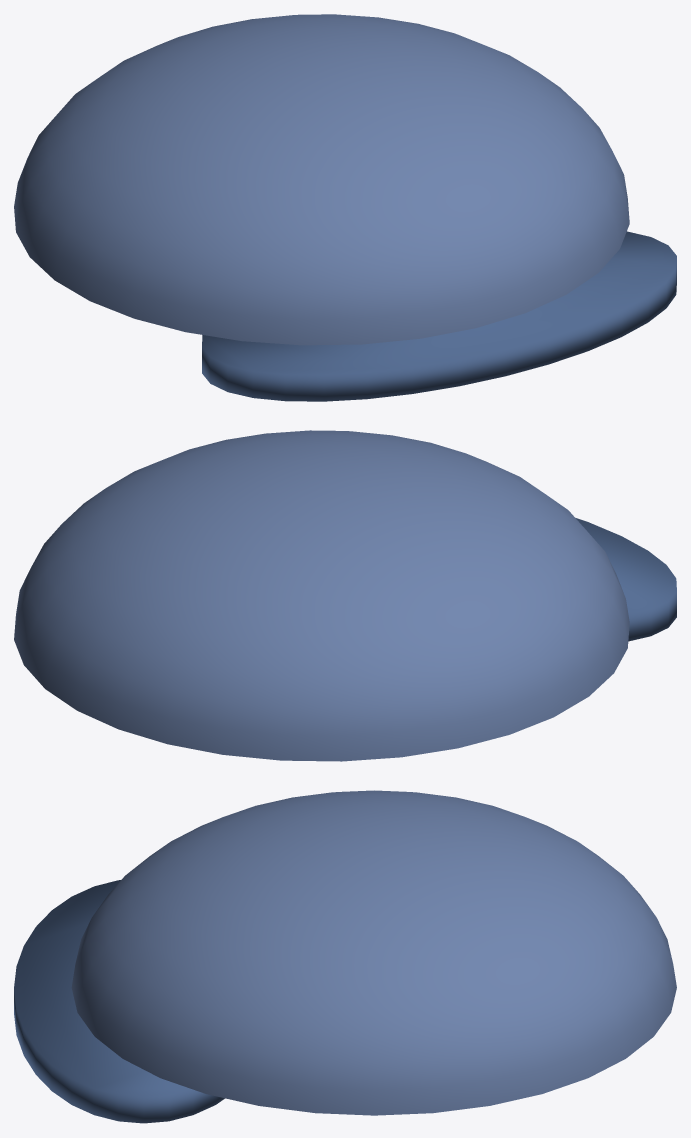
File: cap_classic.glb
3 views of the same model, one above another, from view 1: azimuth 30°, elevation 25°; view 2: azimuth 150°, elevation 25°; view 3: azimuth 270°, elevation 25° (orthographic).
Parts seen in each view (by area): view 1: cap_crown, cap_visor; view 2: cap_crown, cap_visor; view 3: cap_crown, cap_visor.
Part boxes in pixels (x1=…): cap_crown: x1=14, y1=14, x2=629, y2=345; cap_visor: x1=202, y1=231, x2=676, y2=401; cap_crown: x1=14, y1=430, x2=629, y2=761; cap_visor: x1=576, y1=518, x2=676, y2=641; cap_crown: x1=71, y1=790, x2=676, y2=1115; cap_visor: x1=14, y1=880, x2=224, y2=1123.
Size of the model in its own units: 0.84 by 0.271 by 0.92.
